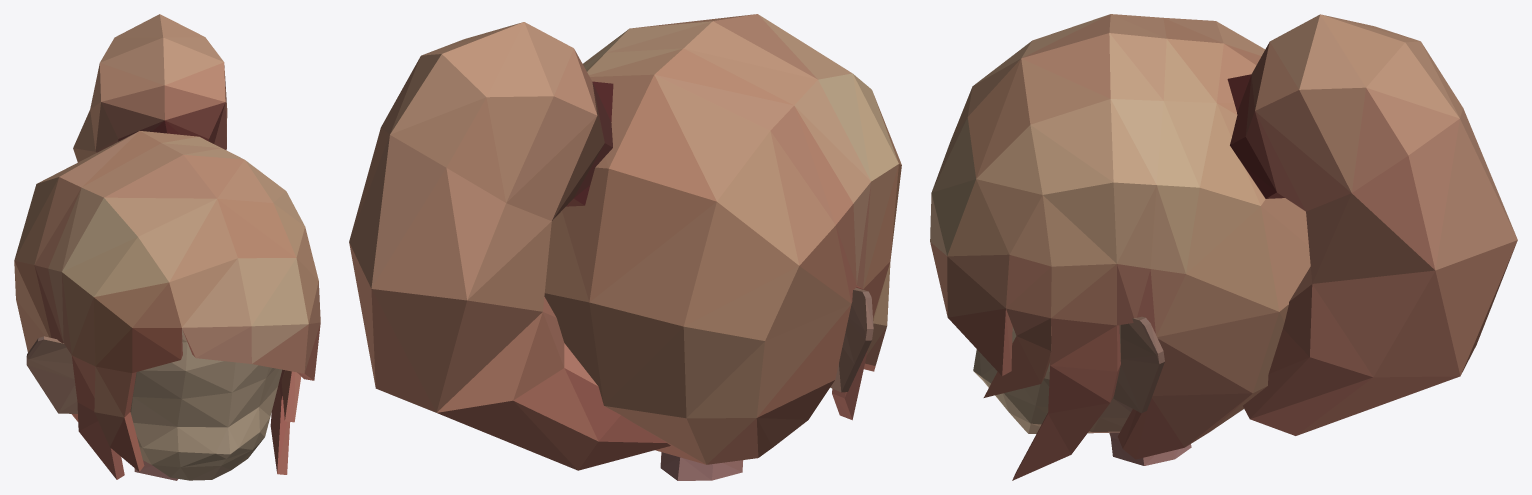
The model's file is helm_lightskin_ponytail_blonde.fbx.
The picture shows the model from 3 angles, left to right: view 1: azimuth 30°, elevation 25°; view 2: azimuth 150°, elevation 25°; view 3: azimuth 270°, elevation 25°; orthographic projection. The views are drawn at different scales.
Parts seen in each view (by area): view 1: helm_lightskin_ponytail_blonde; view 2: helm_lightskin_ponytail_blonde; view 3: helm_lightskin_ponytail_blonde.
Part boxes in pixels (left/top/right/bottom): helm_lightskin_ponytail_blonde: left=14, top=14, right=320, bottom=480; helm_lightskin_ponytail_blonde: left=349, top=14, right=901, bottom=480; helm_lightskin_ponytail_blonde: left=930, top=14, right=1517, bottom=480.
Bounding box in the file's own units: 1.21 × 1.49 × 1.64.
